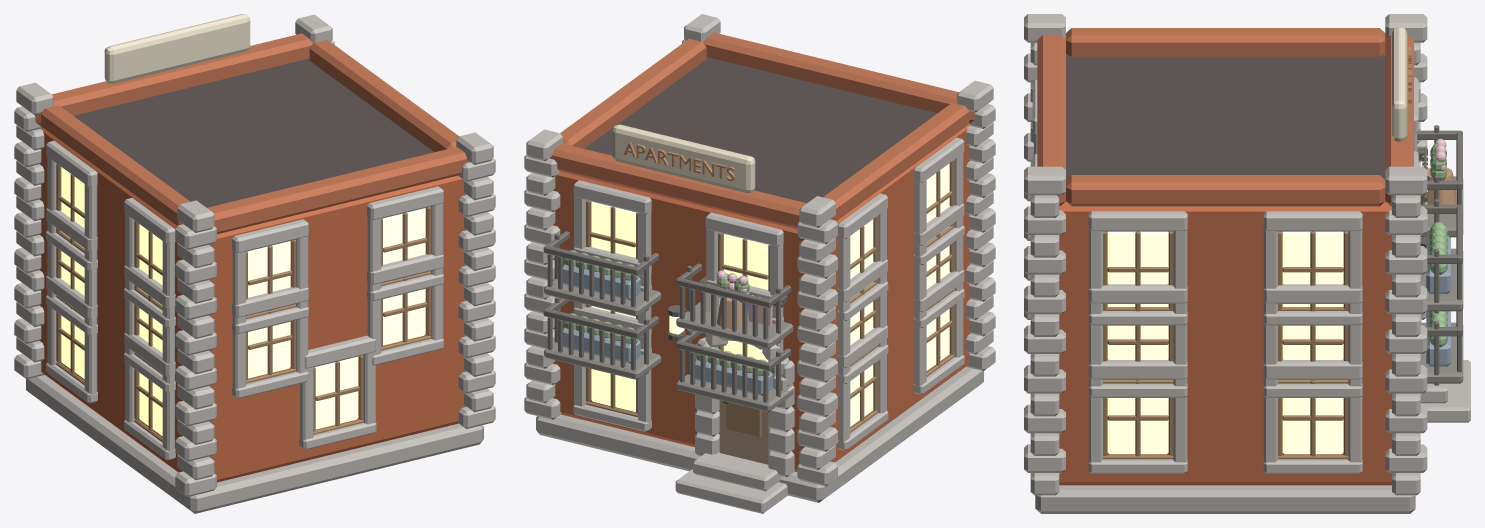
File: 02-apartment-building.glb
3 renders of one model, left to right at view 1: azimuth 30°, elevation 25°; view 2: azimuth 150°, elevation 25°; view 3: azimuth 270°, elevation 25°, orthographic. The views are drawn at different scales.
Visible parts, largest first — view 1: Walls, Deck, Plinth, CopB, CopF, Sign_plaque, CopL, CopR, W9_back_glow, W7_back_glow, W8_back_glow, W6_back_glow (+81 smaller); view 2: Walls, Deck, Plinth, CopB, CopF, Sign_plaque, CopL, CopR, Step1, Step2, Balc_slab_-0.46, Door_leaf (+79 smaller); view 3: Walls, Deck, Plinth, CopR, CopL, CopB, W20_right_glow, W21_right_glow, W16_right_glow, W17_right_glow, CopF, W16_right_lint (+68 smaller).
Boxes of the visible parts, bbox=[...] form: Walls: bbox=[40, 127, 466, 482]; Deck: bbox=[74, 58, 433, 207]; Plinth: bbox=[26, 375, 483, 513]; CopB: bbox=[207, 147, 469, 234]; CopF: bbox=[35, 33, 313, 125]; Sign_plaque: bbox=[104, 14, 250, 83]; CopL: bbox=[41, 105, 190, 226]; CopR: bbox=[309, 39, 458, 152]; W9_back_glow: bbox=[315, 356, 358, 429]; W7_back_glow: bbox=[248, 321, 290, 378]; W8_back_glow: bbox=[383, 289, 425, 345]; W6_back_glow: bbox=[382, 208, 425, 264]; Walls: bbox=[553, 125, 970, 471]; Deck: bbox=[584, 57, 937, 203]; Plinth: bbox=[536, 367, 983, 502]; CopB: bbox=[703, 32, 974, 122]; CopF: bbox=[549, 143, 806, 228]; Sign_plaque: bbox=[612, 124, 755, 193]; CopL: bbox=[823, 102, 969, 220]; CopR: bbox=[560, 38, 706, 148]; Step1: bbox=[675, 469, 788, 513]; Step2: bbox=[693, 452, 781, 491]; Balc_slab_-0.46: bbox=[676, 302, 793, 348]; Door_leaf: bbox=[719, 400, 770, 464]; Walls: bbox=[1059, 201, 1391, 485]; Deck: bbox=[1066, 55, 1385, 179]; Plinth: bbox=[1035, 485, 1415, 513]; CopR: bbox=[1066, 175, 1385, 206]; CopL: bbox=[1066, 28, 1385, 56]; CopB: bbox=[1037, 34, 1065, 206]; W20_right_glow: bbox=[1107, 398, 1168, 454]; W21_right_glow: bbox=[1282, 398, 1343, 454]; W16_right_glow: bbox=[1107, 231, 1168, 305]; W17_right_glow: bbox=[1282, 231, 1343, 305]; CopF: bbox=[1385, 34, 1413, 206]; W16_right_lint: bbox=[1088, 211, 1187, 231].
Size of the model in its own units: 2.12 by 2.16 by 2.35.
